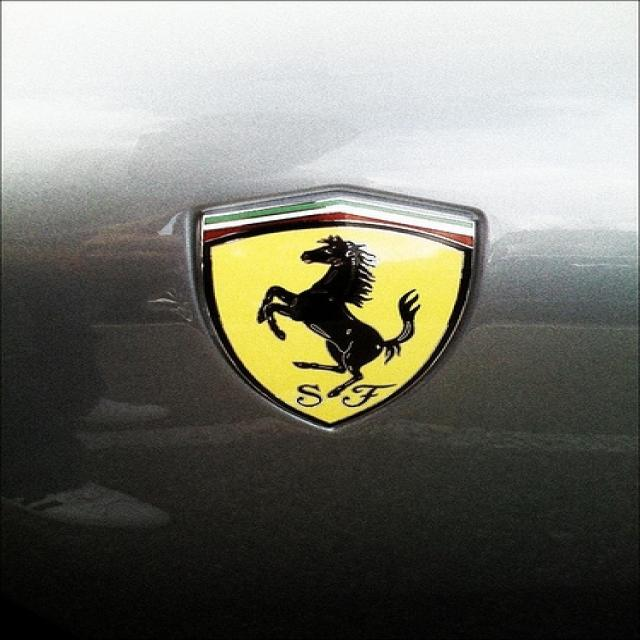ferrari: (199, 190, 481, 430)
